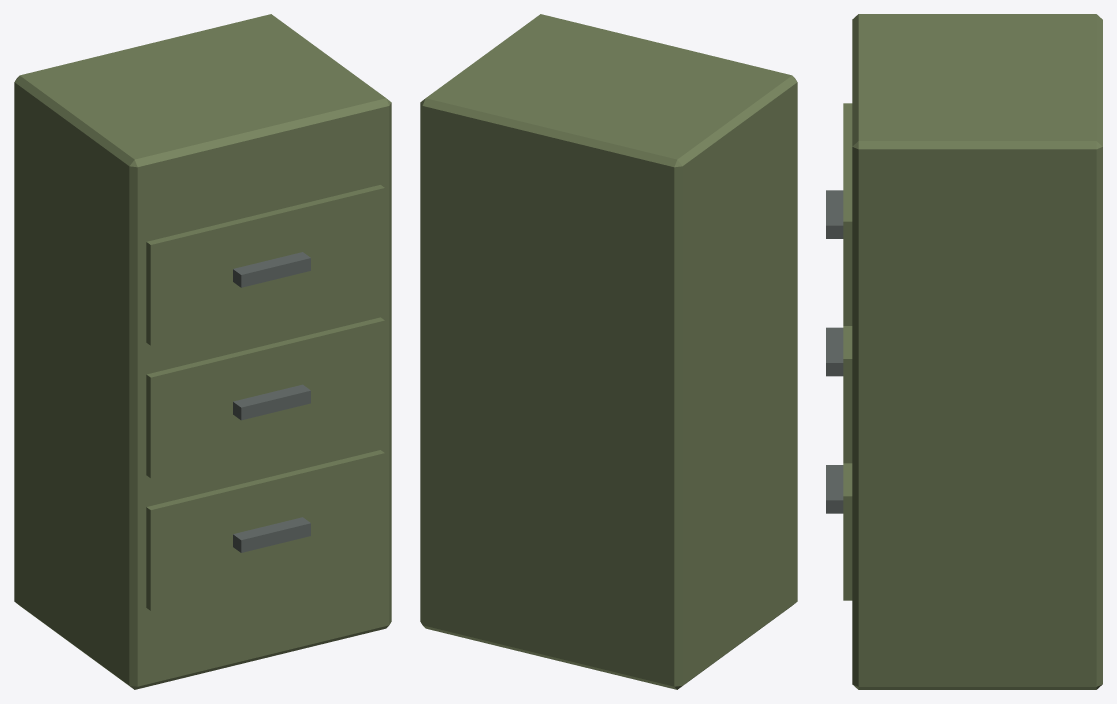
Rendered from filing_cabinet.fbx.
3 renders of one model, left to right at view 1: azimuth 30°, elevation 25°; view 2: azimuth 150°, elevation 25°; view 3: azimuth 270°, elevation 25°, orthographic. The views are drawn at different scales.
Visible parts, largest first — view 1: filing_cabinet.004; view 2: filing_cabinet.004; view 3: filing_cabinet.004.
Part boxes in pixels (left/top/right/bottom): filing_cabinet.004: left=14, top=14, right=391, bottom=689; filing_cabinet.004: left=420, top=14, right=797, bottom=689; filing_cabinet.004: left=826, top=14, right=1102, bottom=689.
Size of the model in its own units: 75 by 145 by 66.25.
